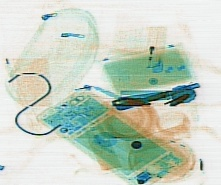lighter: (144, 24, 166, 73)
